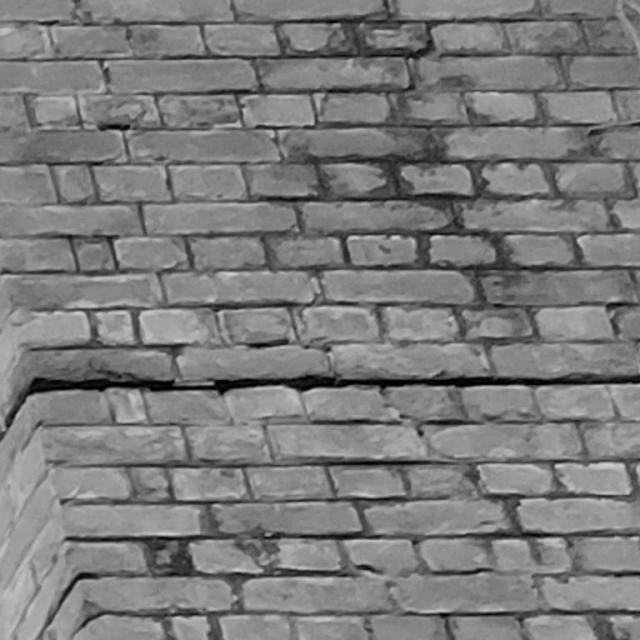crack: (1, 371, 640, 438)
